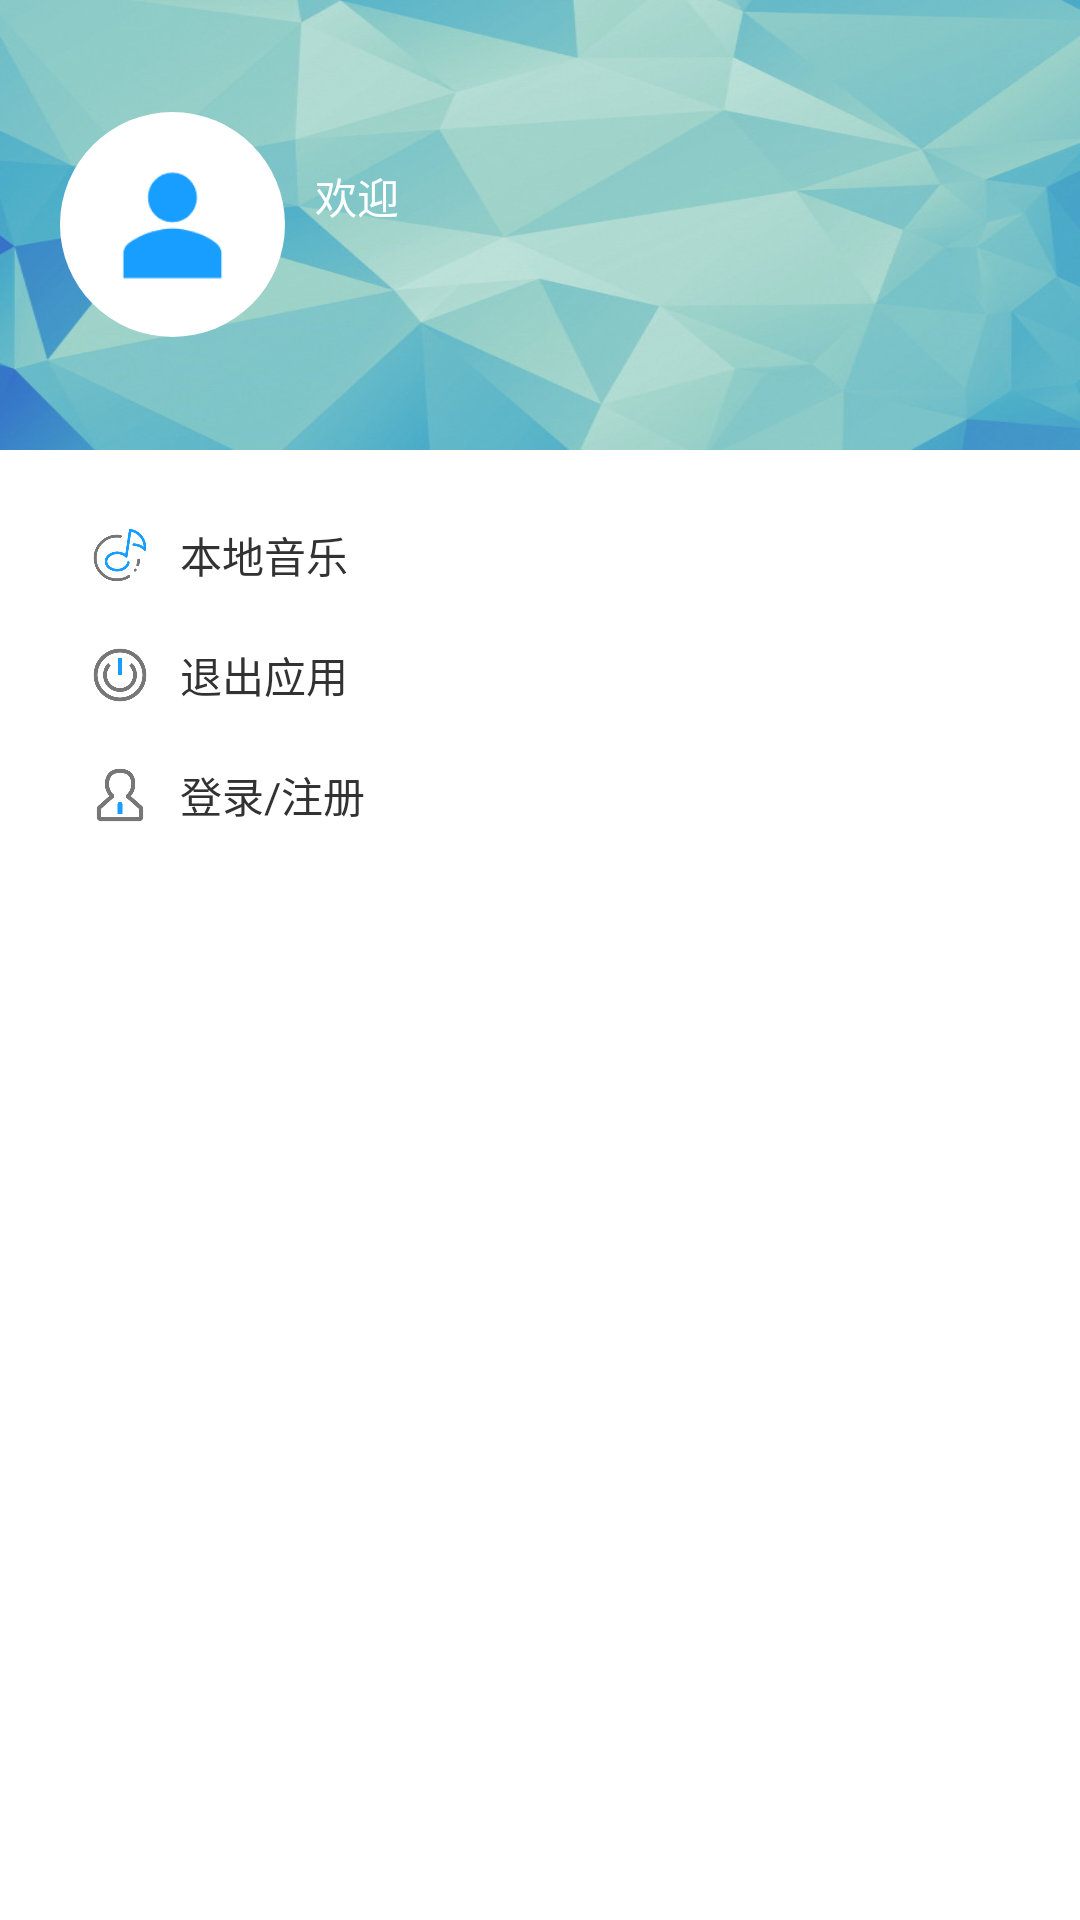

Named icons in this screenshot (1080px x 1920px) and their bounding boxes, [x1=x1, y1=y1, x2=x2, y2=y2]:
user: [x1=60, y1=112, x2=285, y2=337]
